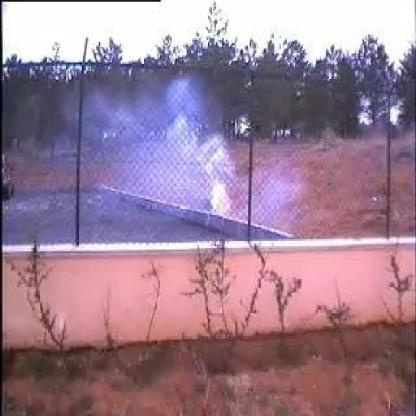-: (56, 82, 248, 233)
